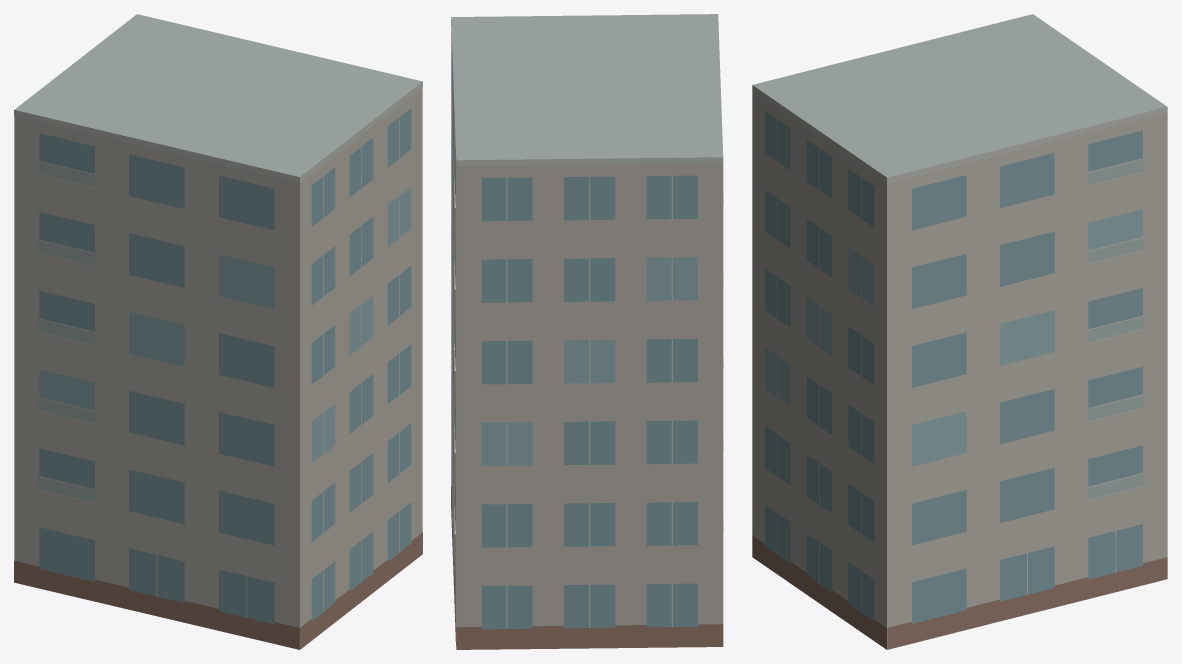
Rendered from survey-upis-32720543.glb.
3 views of the same model, side by side, from view 1: azimuth 30°, elevation 25°; view 2: azimuth 150°, elevation 25°; view 3: azimuth 270°, elevation 25° (orthographic). The views are drawn at different scales.
Visible parts, largest first — view 1: survey-upis-32720543.tmp; view 2: survey-upis-32720543.tmp; view 3: survey-upis-32720543.tmp.
Boxes of the visible parts, x1,y1,x2,y2 form: survey-upis-32720543.tmp: (14, 14, 422, 649); survey-upis-32720543.tmp: (451, 14, 723, 649); survey-upis-32720543.tmp: (752, 14, 1167, 649).
Size of the model in its own units: 14.77 by 19.87 by 15.84.
